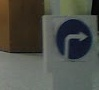right: (52, 17, 97, 62)
